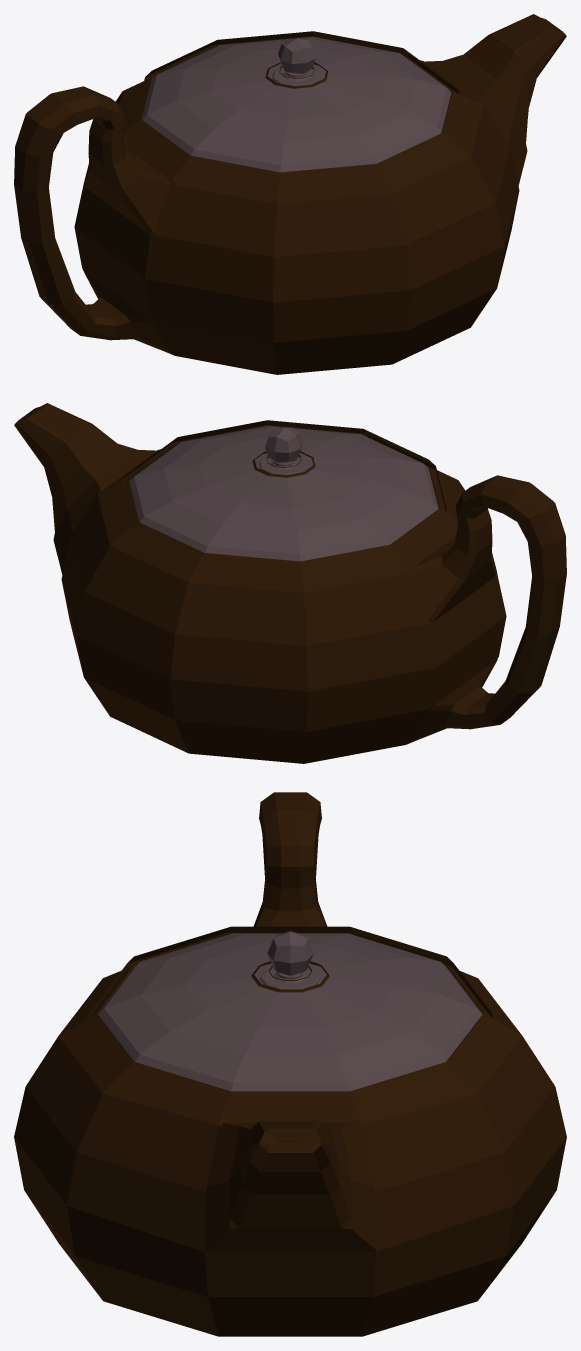
File: Teapot_(Outlined)v002.fbx
The picture shows the model from 3 angles, top to bottom: view 1: azimuth 30°, elevation 25°; view 2: azimuth 150°, elevation 25°; view 3: azimuth 270°, elevation 25°; orthographic projection. The views are drawn at different scales.
Visible parts, largest first — view 1: Teapot, lid; view 2: Teapot, lid; view 3: Teapot, lid.
Part boxes in pixels (x1,y1,x2,y2): Teapot: (14, 14, 566, 374); lid: (134, 31, 459, 172); Teapot: (14, 403, 566, 763); lid: (121, 420, 446, 561); Teapot: (14, 792, 566, 1336); lid: (88, 926, 492, 1091).
Size of the model in its own units: 2.43 by 1.18 by 1.78.
